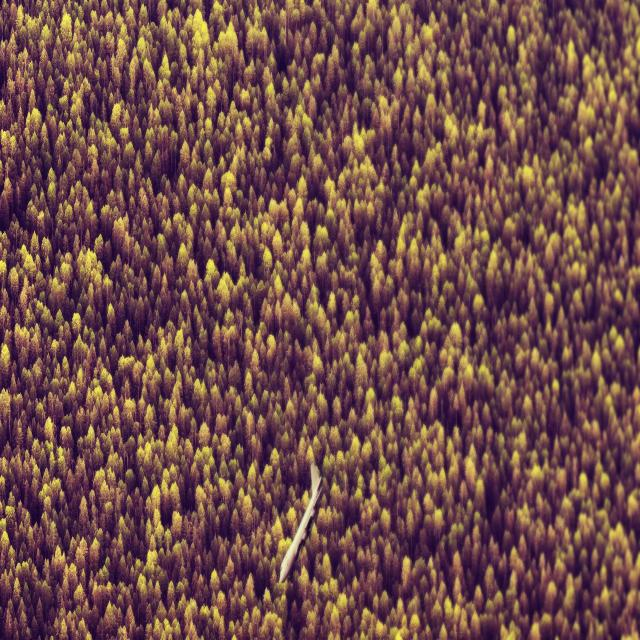airplane: (278, 460, 322, 584)
